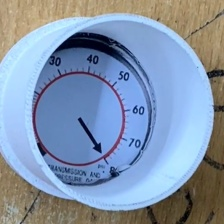gauge: (35, 47, 149, 185)
